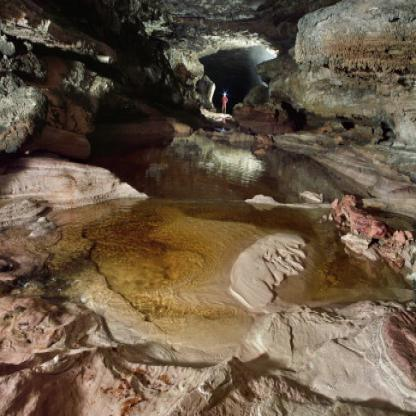Metamorphic_Quartize: (1, 135, 151, 212), (230, 208, 318, 322), (288, 12, 415, 86), (0, 6, 153, 66)
